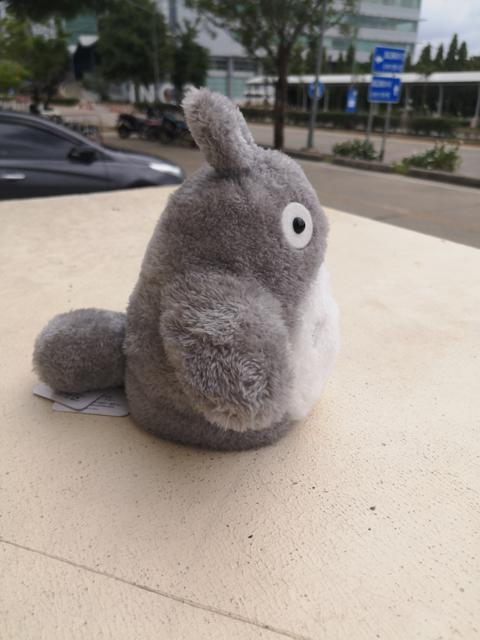totoro: (29, 85, 349, 456)
